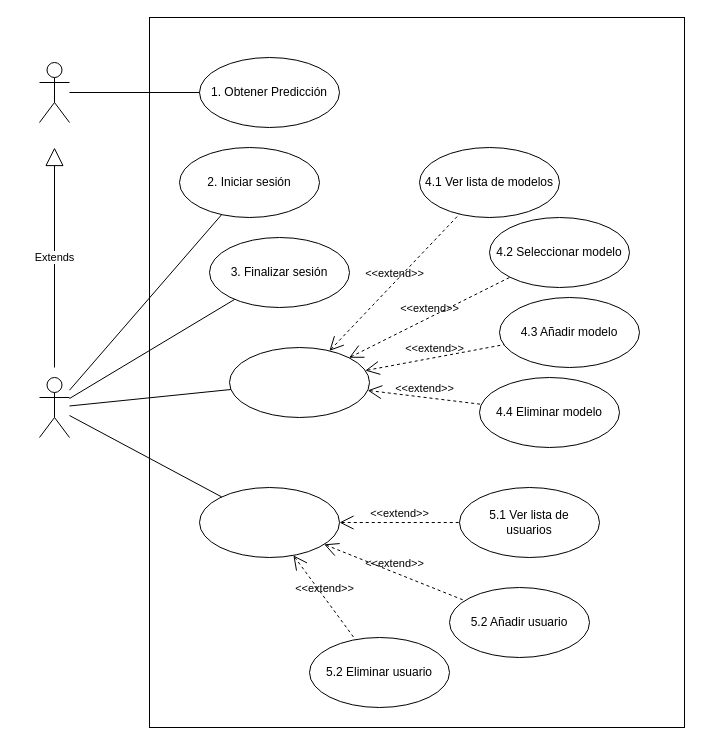
Some shapes in this 702 by 745 pixel diagram are drawn without their labels. Each missing label, with the centre of its shape:
"4.Gestionar modelos" goes at (299,382).
"5.Gestionar usuarios" goes at (269,522).
"Administrador" goes at (54,407).
"Usuario" goes at (54,92).
